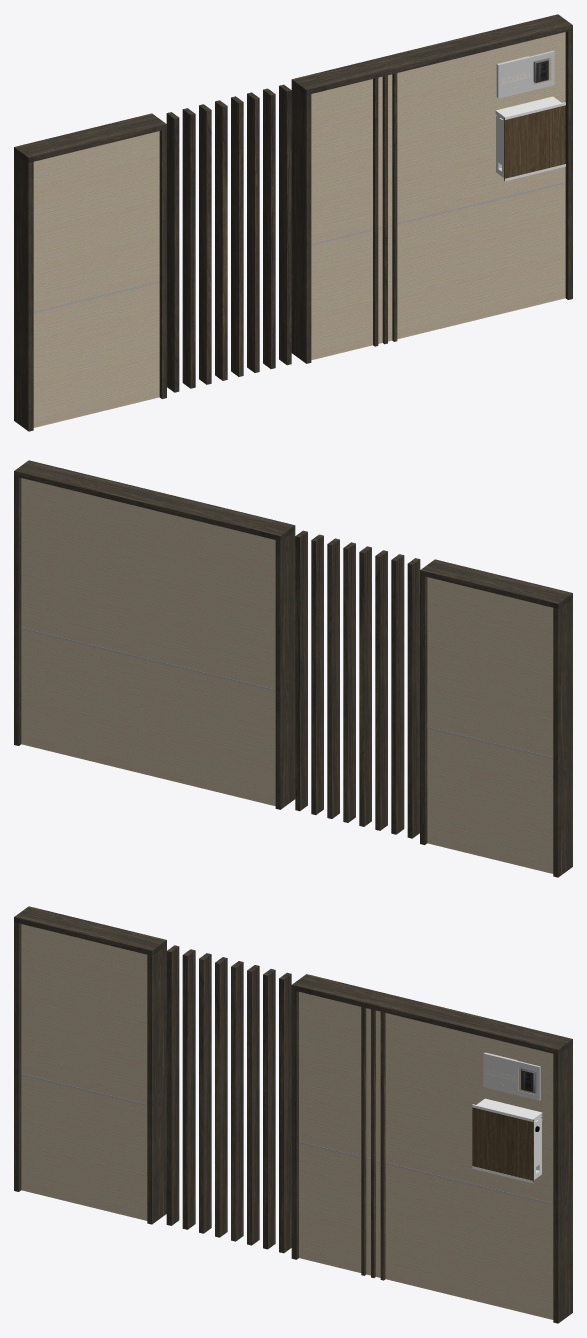
The model's file is ab53_brackebony-ryusen.fbx.
3 renders of one model, top to bottom at view 1: azimuth 30°, elevation 25°; view 2: azimuth 150°, elevation 25°; view 3: azimuth 330°, elevation 25°, orthographic.
Parts seen in each view (by area): view 1: ab53_brackebony-ryusen; view 2: ab53_brackebony-ryusen; view 3: ab53_brackebony-ryusen.
Boxes of the visible parts, x1=… form: ab53_brackebony-ryusen: x1=14, y1=14, x2=572, y2=431; ab53_brackebony-ryusen: x1=14, y1=460, x2=572, y2=877; ab53_brackebony-ryusen: x1=14, y1=906, x2=572, y2=1323.
Size of the model in its own units: 339 by 163 by 25.6.
Materials: 14 (6 with a texture image).
